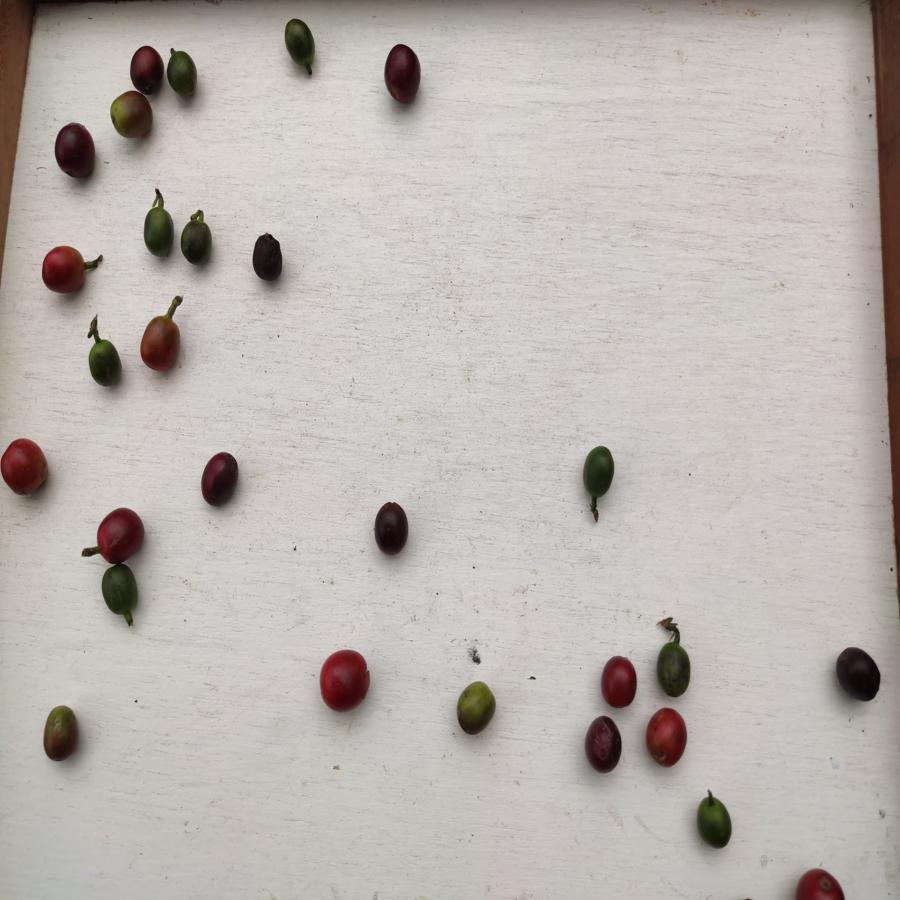Inmaduro: (98, 560, 140, 624), (279, 15, 326, 71), (696, 793, 732, 854), (578, 445, 616, 502), (656, 640, 690, 698), (176, 215, 216, 264), (143, 204, 175, 264), (163, 49, 200, 99), (88, 337, 123, 386)
Maduro: (319, 647, 374, 713), (1, 436, 52, 500), (644, 704, 689, 771), (37, 243, 89, 297), (598, 653, 640, 714)
Pinton: (139, 314, 185, 374), (454, 680, 497, 736), (108, 92, 154, 142), (42, 706, 81, 762)
Sobremaduro: (834, 646, 885, 708), (50, 122, 102, 180), (381, 42, 422, 106), (197, 451, 244, 506), (97, 508, 143, 564), (583, 715, 625, 773), (373, 500, 412, 555), (250, 232, 289, 283), (123, 46, 163, 88)
